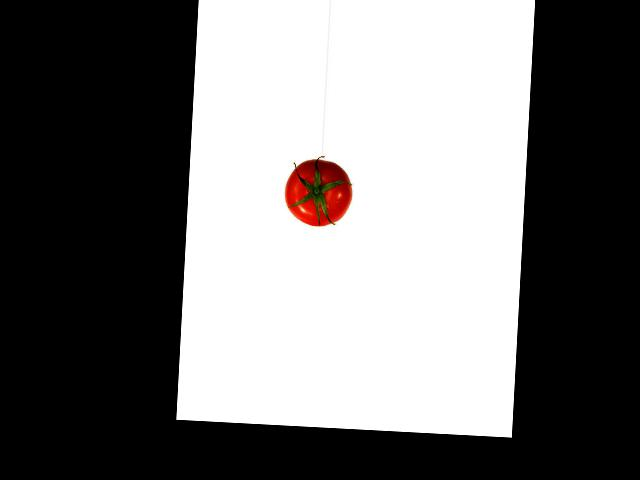tomato: (283, 158, 353, 228)
